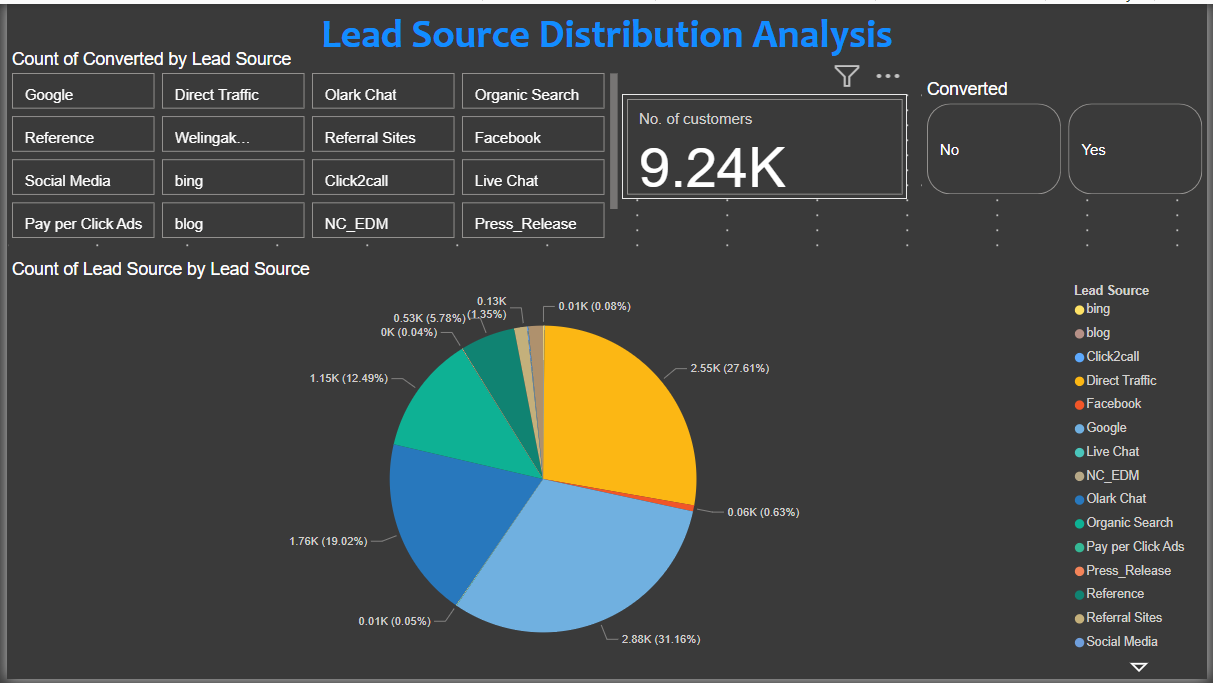

This screenshot's page, from the dashboard's own definition file:
{"tool":"powerbi","page":{"name":"Lead Source Distribution Analysis","canvas":[1280,720],"ordinal":1},"visuals":[{"type":"pieChart","fields":{"Y":["CountNonNull(Customer Lead Prediction.Lead Source)"],"Series":["Customer Lead Prediction.Lead Source"]},"box":[0,272,1280,448],"z":0},{"type":"textbox","box":[0,0,1280,96],"z":1000},{"type":"advancedSlicerVisual","fields":{"Values":["Customer Lead Prediction.Converted"]},"box":[976,80,304,128],"z":2000},{"type":"cardVisual","fields":{"Data":["CountNonNull(Customer Lead Prediction.Converted)"]},"box":[656,96,304,112],"z":3000},{"type":"advancedSlicerVisual","fields":{"Values":["Customer Lead Prediction.Lead Source"]},"box":[0,48,656,208],"z":4000}]}

Visuals, with their boxes in screenshot pixels (x1, y1, x2, y2), scaled from the page's 1280x720 canvas onto the 1213x683 screenshot:
pieChart - CountNonNull(Customer Lead Prediction.Lead Source) x Customer Lead Prediction.Lead Source: detection(0, 258, 1212, 682)
textbox: detection(0, 0, 1212, 91)
advancedSlicerVisual - Customer Lead Prediction.Converted: detection(925, 76, 1212, 197)
cardVisual - CountNonNull(Customer Lead Prediction.Converted): detection(622, 91, 910, 197)
advancedSlicerVisual - Customer Lead Prediction.Lead Source: detection(0, 46, 622, 243)
